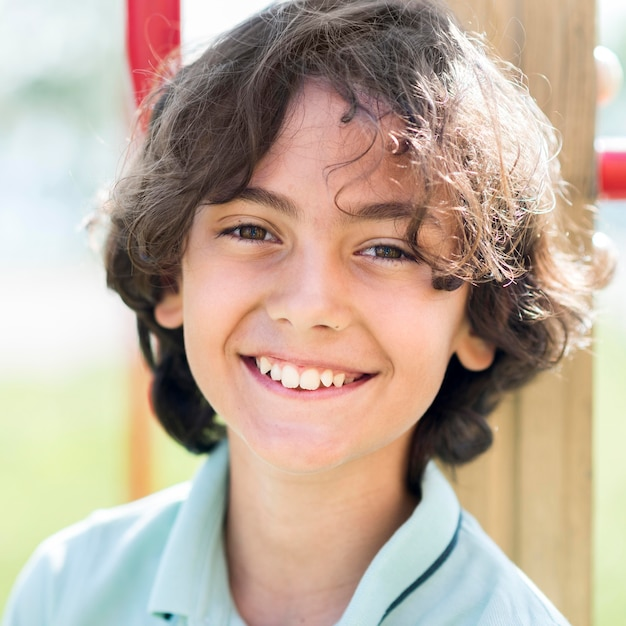teen: (121, 26, 554, 499)
